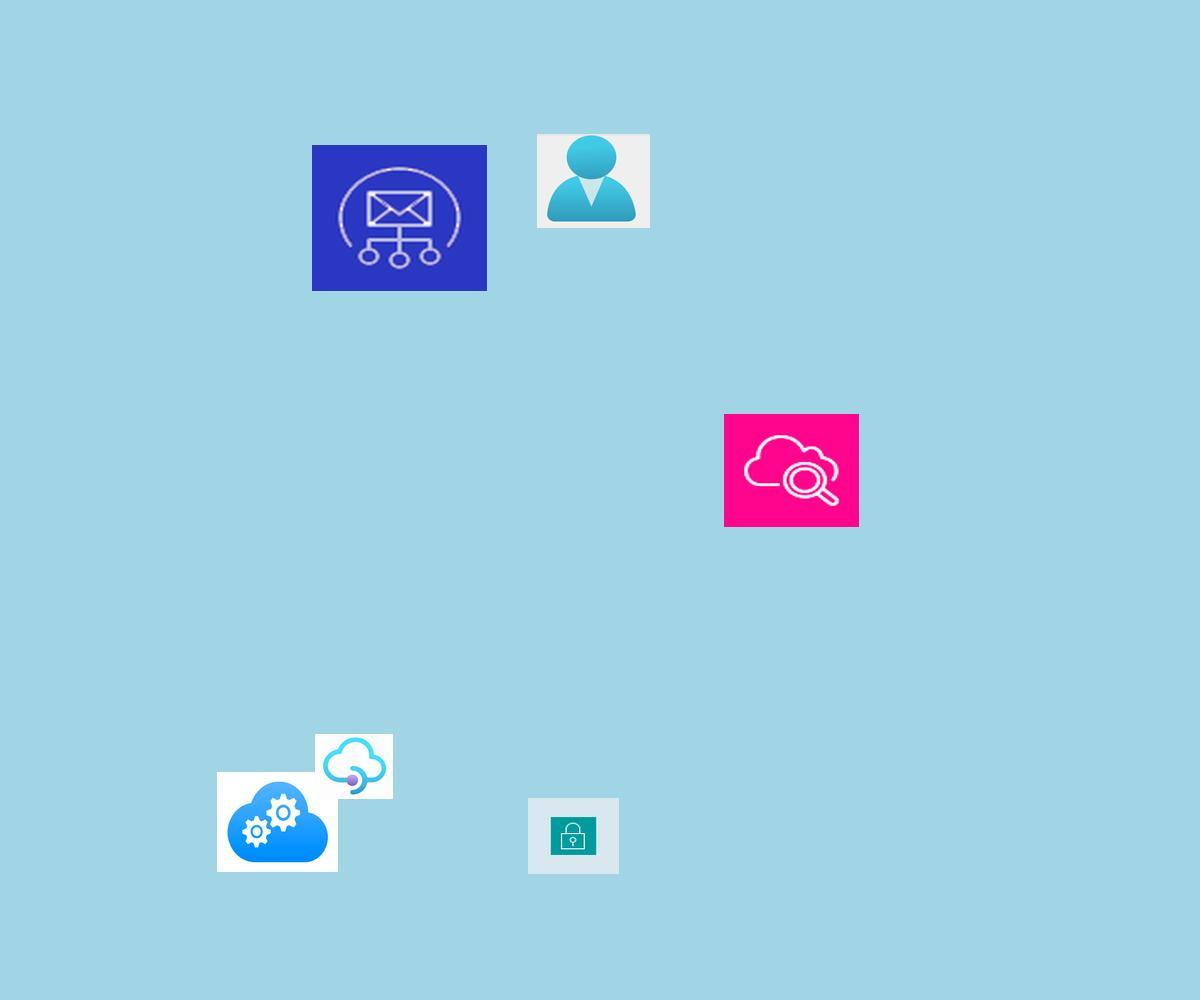AWS-CloudWatch: (724, 414, 859, 527)
AWS-Private-subnet: (528, 798, 619, 874)
AWS-Simple-Email-Service: (312, 145, 487, 291)
Azure_api_gateway: (315, 734, 393, 799)
Azure_cloud_services: (217, 772, 338, 872)
Azure_users: (537, 134, 650, 228)
